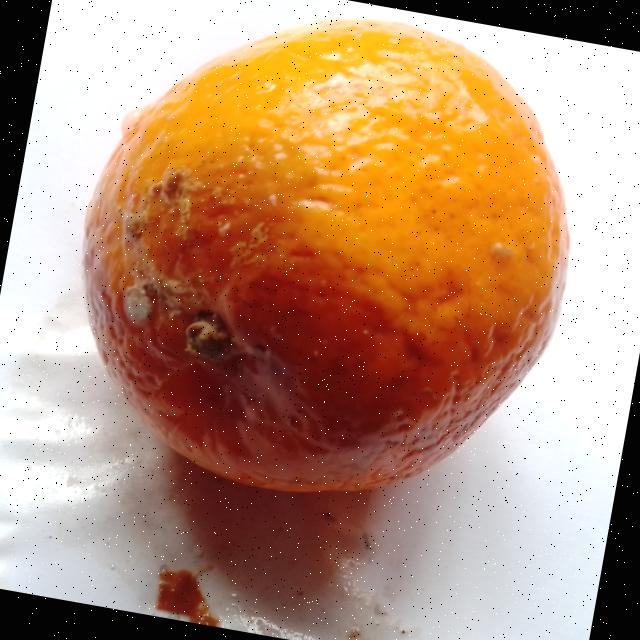Rotten: (44, 0, 607, 536)
